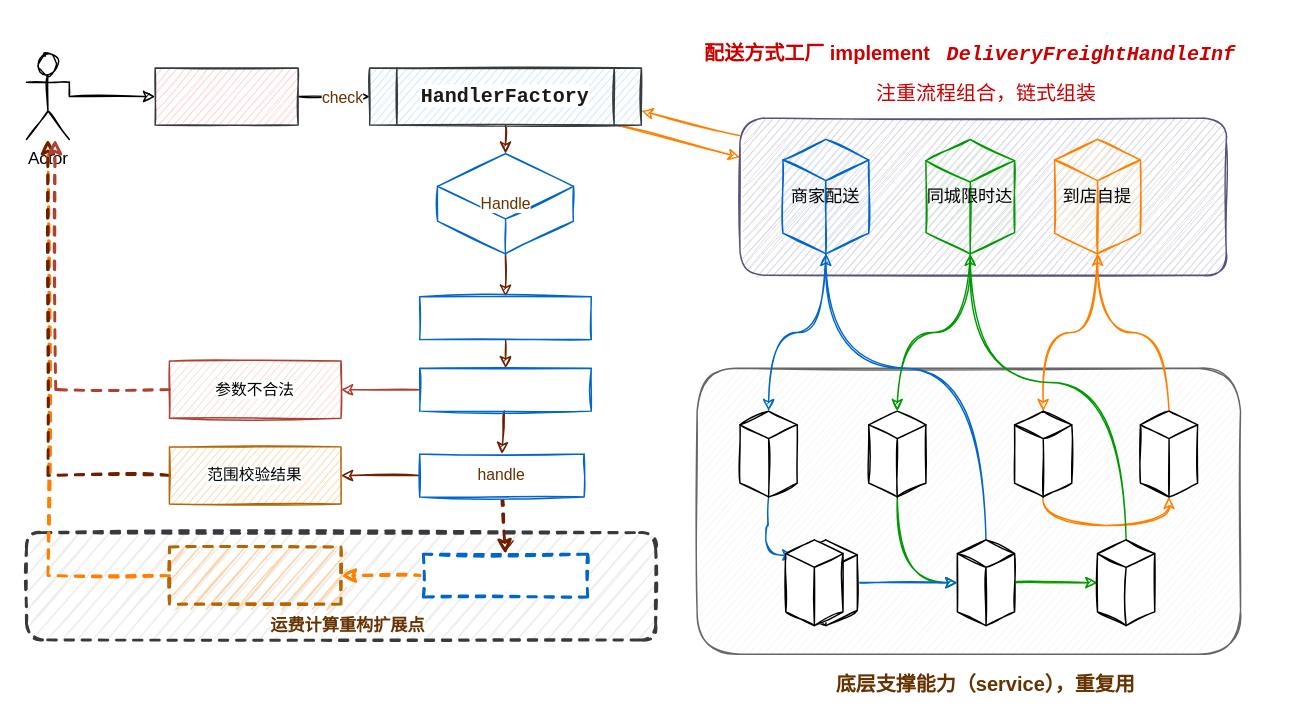
Image size: 1294x719. Some labels were removed from this diagram. The shapes that lost their labels are listed below. From the top down, each one's centre as x and y in pixels, then its label:
(226,95): 通用数据校验
(504,317): buildContext
(504,389): 定制数据校验
(254,575): 运费计算结果
(504,575): calculate
